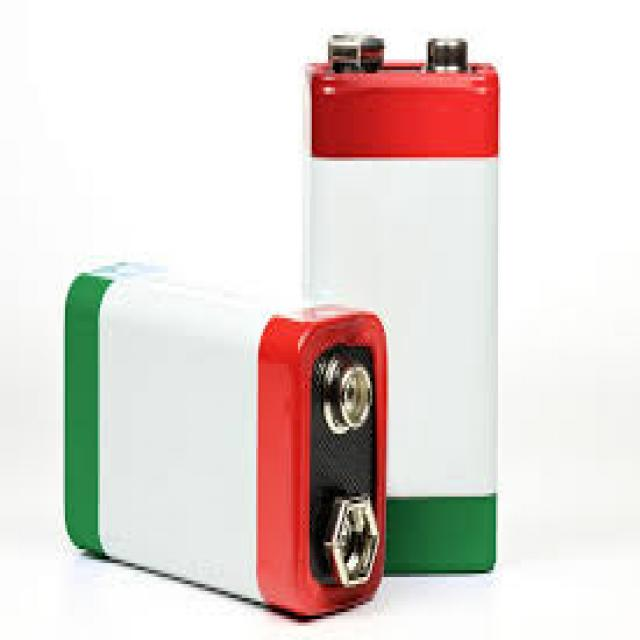non-organic waste: (64, 247, 388, 620), (308, 32, 500, 574)
